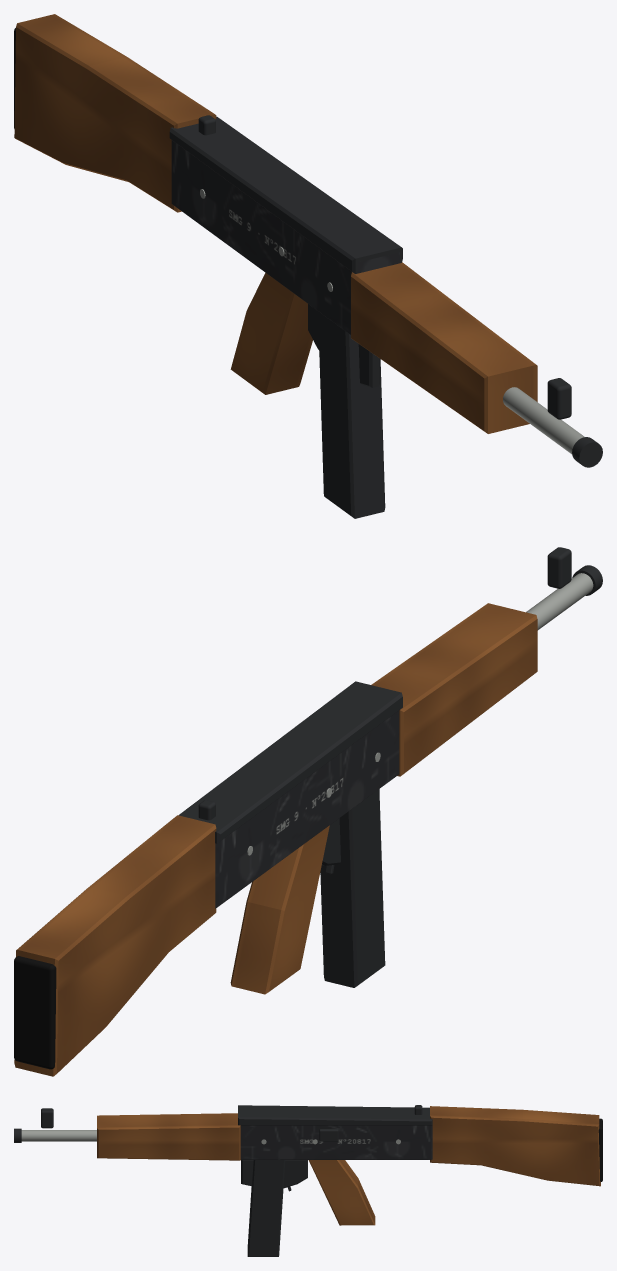
File: 08-pistolet-mitrailleur.glb
3 renders of one model, top to bottom at view 1: azimuth 30°, elevation 25°; view 2: azimuth 150°, elevation 25°; view 3: azimuth 270°, elevation 25°, orthographic. The views are drawn at different scales.
Bounding box in the file's own units: 0.0532 × 0.2532 × 0.92.
8 materials, 3 textured.
